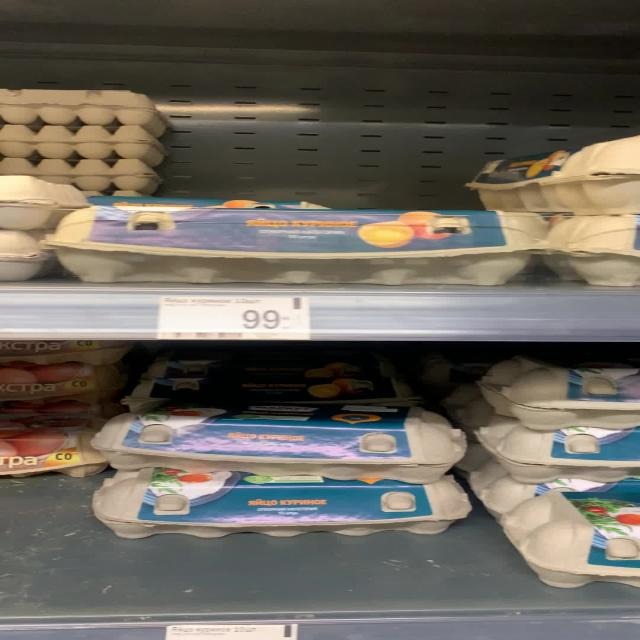egg box: (40, 200, 545, 289), (86, 409, 470, 478), (76, 476, 473, 534)
